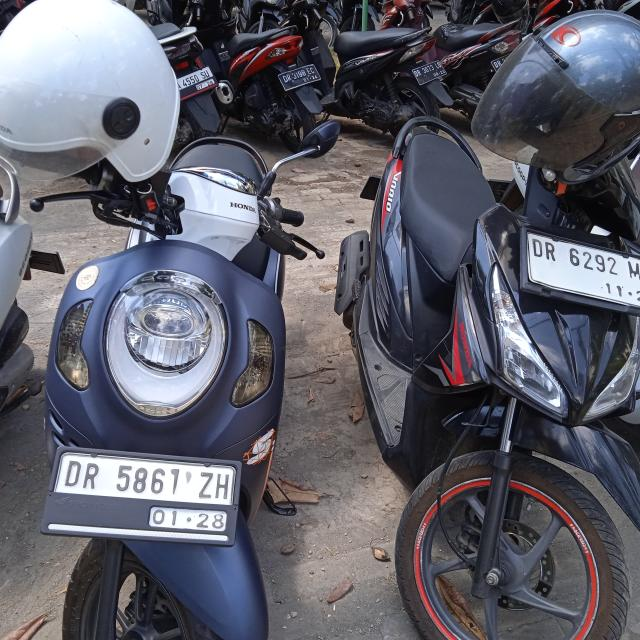plate: (58, 452, 235, 530), (527, 229, 640, 307), (174, 66, 219, 102), (277, 63, 323, 93), (412, 58, 448, 86)
